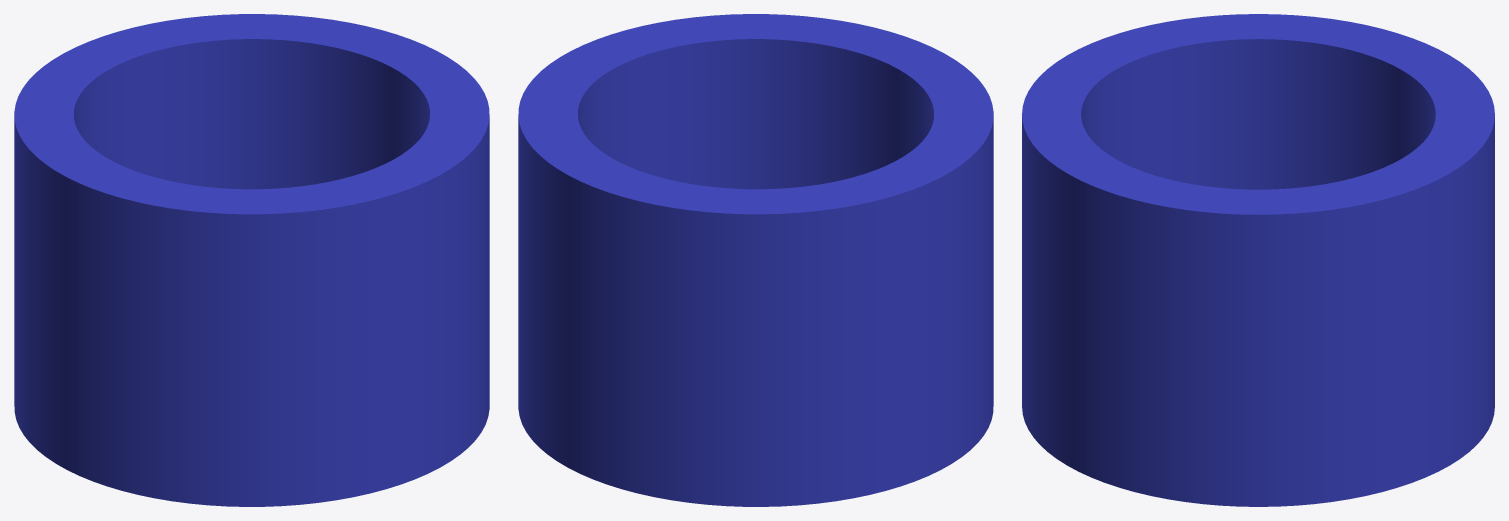
File: Coliseum.fbx
The picture shows the model from 3 angles, left to right: view 1: azimuth 30°, elevation 25°; view 2: azimuth 150°, elevation 25°; view 3: azimuth 270°, elevation 25°; orthographic projection.
Parts seen in each view (by area): view 1: root; view 2: root; view 3: root.
Boxes of the visible parts, x1,y1,x2,y2 form: root: [14, 14, 489, 506]; root: [518, 14, 993, 506]; root: [1022, 14, 1494, 506].
Size of the model in its own units: 2.04 by 1.39 by 2.03.
